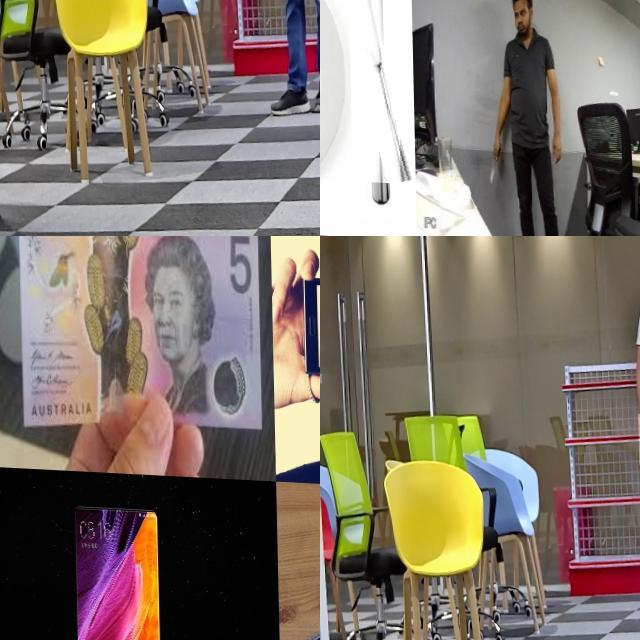-: (347, 0, 399, 180), (486, 149, 499, 181)
gun-knife-thesis - v11 Yolov5 augmented: (207, 0, 243, 27)
